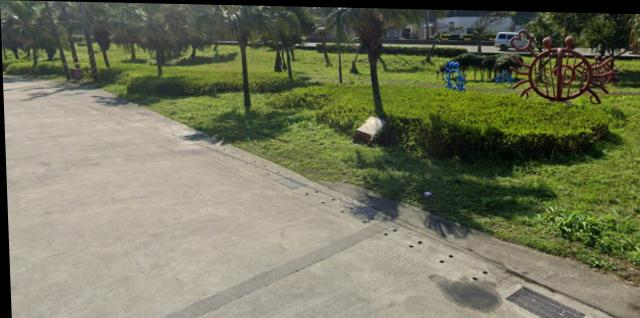pollute: (351, 112, 388, 141), (421, 189, 432, 195)
